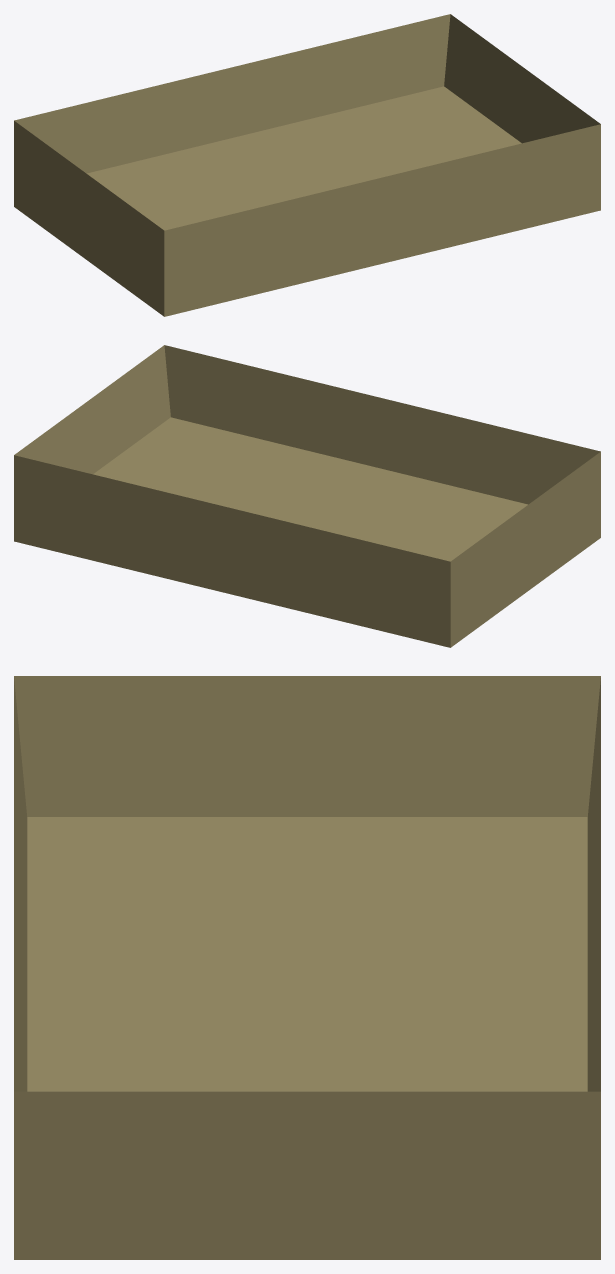
The picture shows the model from 3 angles, top to bottom: view 1: azimuth 30°, elevation 25°; view 2: azimuth 150°, elevation 25°; view 3: azimuth 270°, elevation 25°; orthographic projection. The views are drawn at different scales.
Parts seen in each view (by area): view 1: box_01; view 2: box_01; view 3: box_01.
Boxes of the visible parts, <box> form: box_01: <box>14,14,600,316</box>; box_01: <box>14,345,600,647</box>; box_01: <box>14,676,600,1259</box>.
Size of the model in its own units: 132 by 25 by 79.
